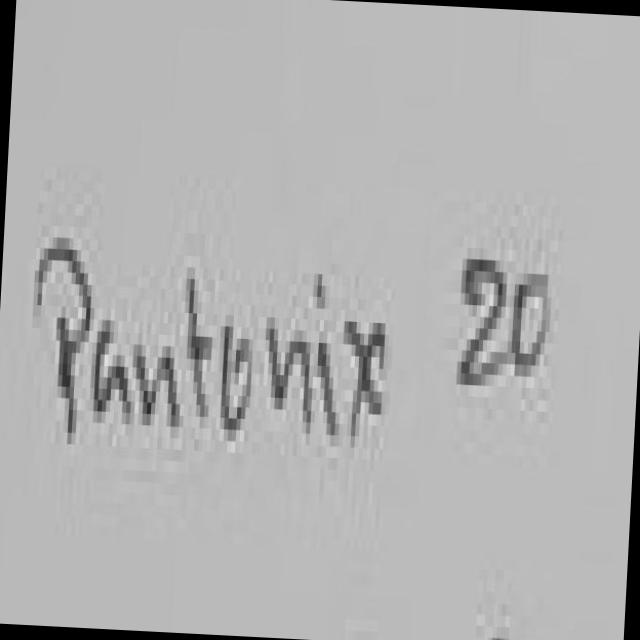0: (507, 240, 562, 413)
2: (437, 198, 522, 440)
P: (17, 193, 101, 472)
a: (84, 312, 138, 442)
i: (306, 253, 350, 463)
n: (254, 300, 321, 449), (126, 307, 188, 468)
o: (212, 286, 264, 457)
t: (176, 253, 224, 460)
x: (336, 292, 397, 458)
